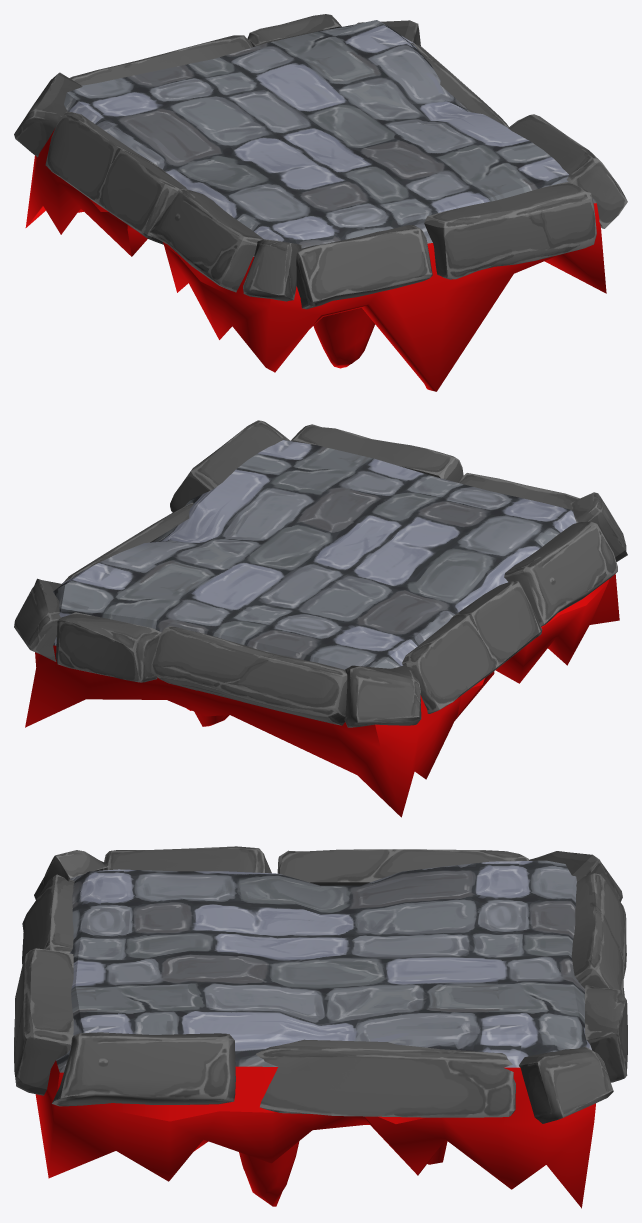
Rendered from Plataforma.fbx.
3 views of the same model, one above another, from view 1: azimuth 30°, elevation 25°; view 2: azimuth 150°, elevation 25°; view 3: azimuth 270°, elevation 25° (orthographic). The views are drawn at different scales.
Parts seen in each view (by area): view 1: polySurface92, polySurface90; view 2: polySurface92, polySurface90; view 3: polySurface92, polySurface90.
Part boxes in pixels (left/top/right/bottom): polySurface92: left=25, top=20, right=606, bottom=391; polySurface90: left=14, top=14, right=627, bottom=309; polySurface92: left=25, top=440, right=619, bottom=817; polySurface90: left=14, top=420, right=627, bottom=727; polySurface92: left=35, top=860, right=595, bottom=1208; polySurface90: left=14, top=846, right=627, bottom=1123.
Size of the model in its own units: 9.29 by 5.15 by 10.64.
